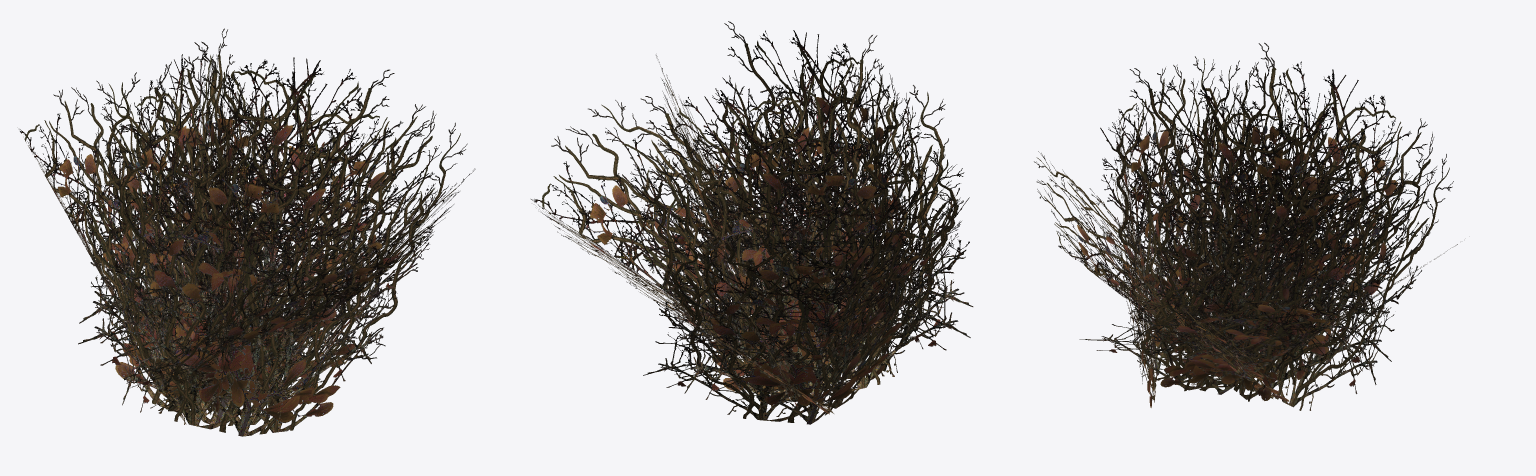
File: plant_kust_01.fbx
3 renders of one model, left to right at view 1: azimuth 30°, elevation 25°; view 2: azimuth 150°, elevation 25°; view 3: azimuth 270°, elevation 25°, orthographic. The views are drawn at different scales.
Visible parts, largest first — view 1: kust_01; view 2: kust_01; view 3: kust_01.
Part boxes in pixels (x1=…): kust_01: x1=19, y1=28, x2=475, y2=436; kust_01: x1=531, y1=21, x2=973, y2=424; kust_01: x1=1034, y1=42, x2=1457, y2=410.
Bounding box in the file's own units: 388 × 307 × 418.
